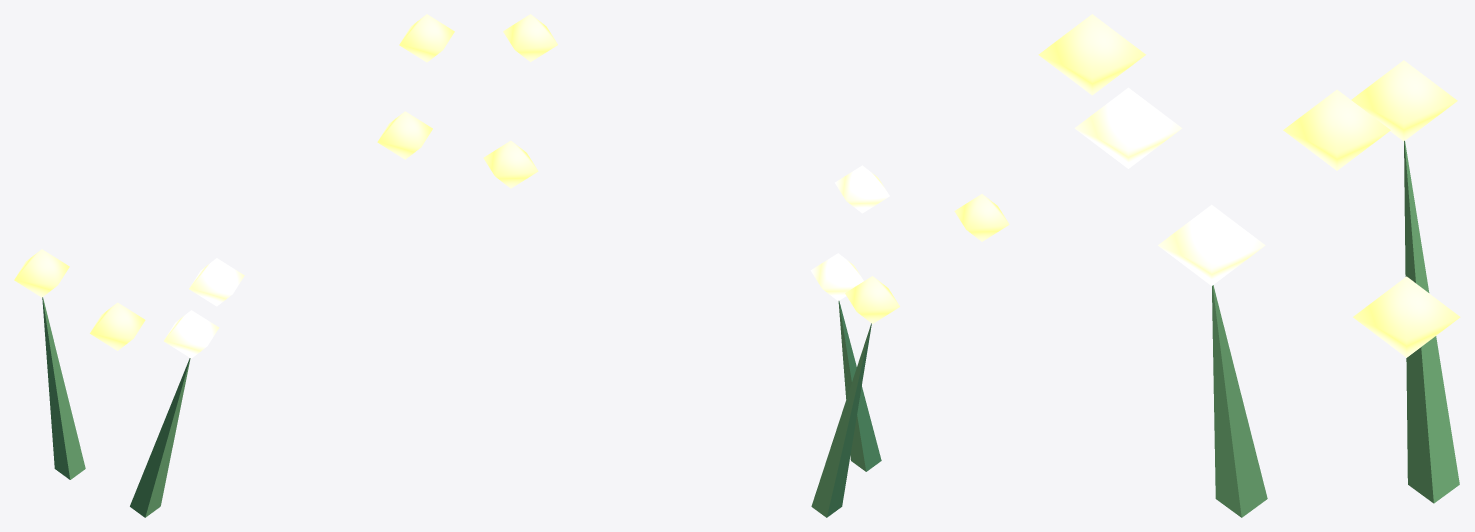
Rendered from firefly-wait.glb.
3 renders of one model, left to right at view 1: azimuth 30°, elevation 25°; view 2: azimuth 150°, elevation 25°; view 3: azimuth 270°, elevation 25°, orthographic. The views are drawn at different scales.
Parts seen in each view (by area): view 1: firefly-wait; view 2: firefly-wait; view 3: firefly-wait.
Boxes of the visible parts, x1,y1,x2,y2 form: firefly-wait: (14, 14, 454, 517); firefly-wait: (483, 14, 1009, 517); firefly-wait: (1038, 14, 1460, 517).
Size of the model in its own units: 1.41 by 1.23 by 0.7036.
